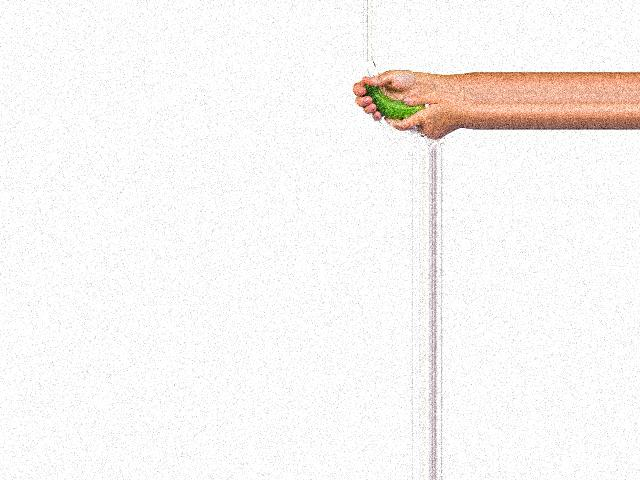cucumber: (364, 85, 426, 120)
